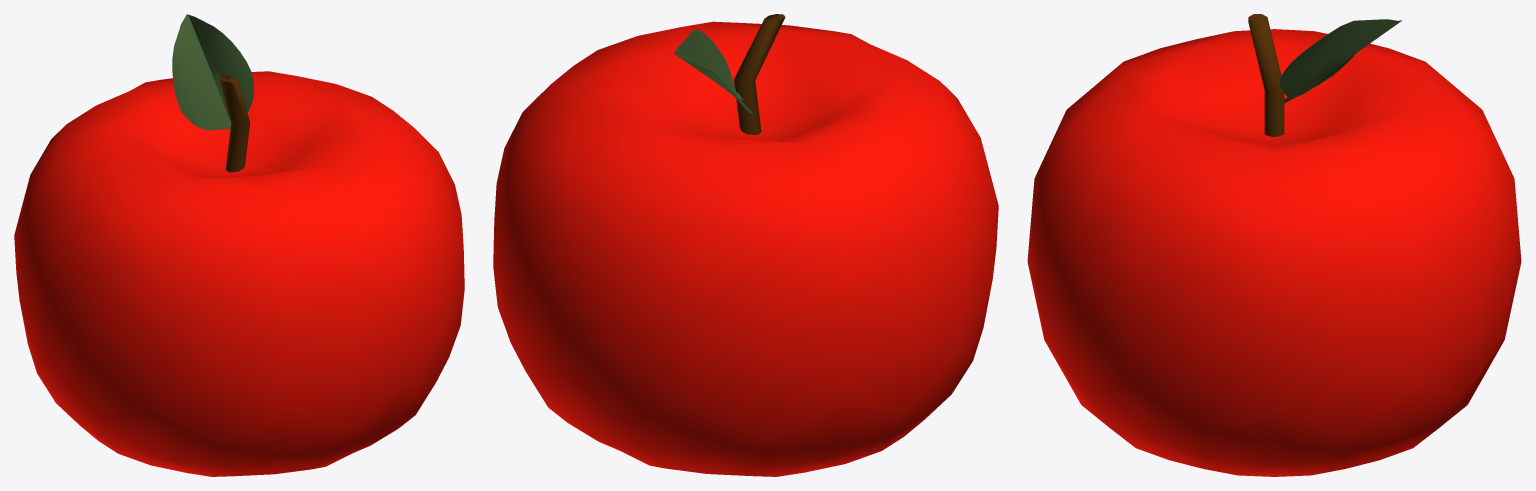
Rendered from AppleModel.fbx.
3 renders of one model, left to right at view 1: azimuth 30°, elevation 25°; view 2: azimuth 150°, elevation 25°; view 3: azimuth 270°, elevation 25°, orthographic. The views are drawn at different scales.
Visible parts, largest first — view 1: Elma; view 2: Elma; view 3: Elma.
Boxes of the visible parts, box(x1,y1,x2,y2) form: Elma: box(14, 14, 464, 476); Elma: box(493, 14, 998, 476); Elma: box(1027, 14, 1521, 476).
Bounding box in the file's own units: 193 × 174 × 193.
